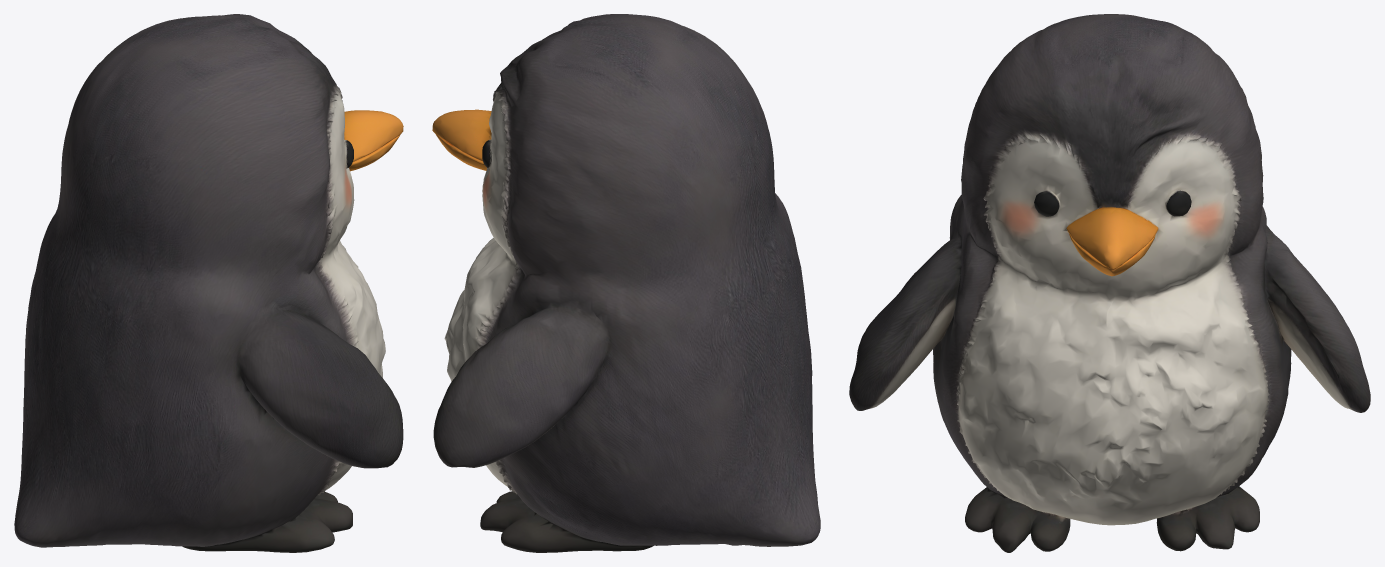
Rendered from penguin.glb.
The picture shows the model from 3 angles, left to right: view 1: azimuth 30°, elevation 25°; view 2: azimuth 150°, elevation 25°; view 3: azimuth 270°, elevation 25°; orthographic projection.
Visible parts, largest first — view 1: tripo_node_12a0528c-4624-4f95-b655-75e7ced73210; view 2: tripo_node_12a0528c-4624-4f95-b655-75e7ced73210; view 3: tripo_node_12a0528c-4624-4f95-b655-75e7ced73210.
Boxes of the visible parts, bbox=[...] form: tripo_node_12a0528c-4624-4f95-b655-75e7ced73210: bbox=[14, 14, 403, 552]; tripo_node_12a0528c-4624-4f95-b655-75e7ced73210: bbox=[432, 14, 820, 552]; tripo_node_12a0528c-4624-4f95-b655-75e7ced73210: bbox=[849, 14, 1370, 552].
Size of the model in its own units: 0.8352 by 1 by 0.9775.
1 material, 1 textured.
